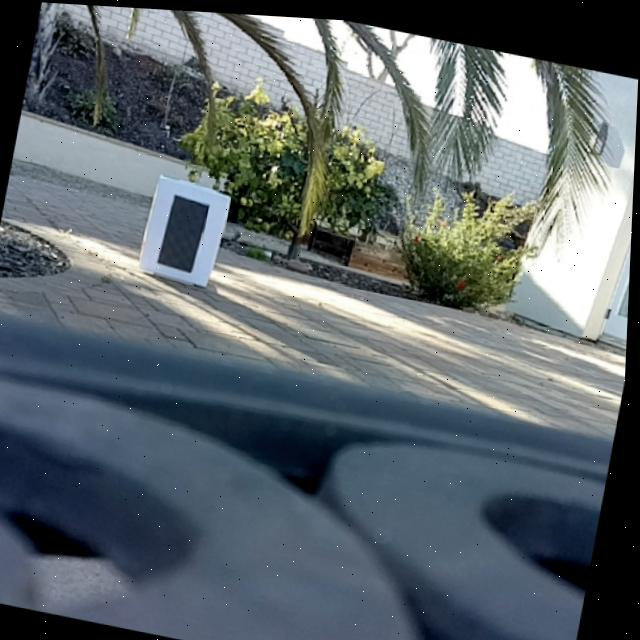led: (157, 188, 214, 275)
